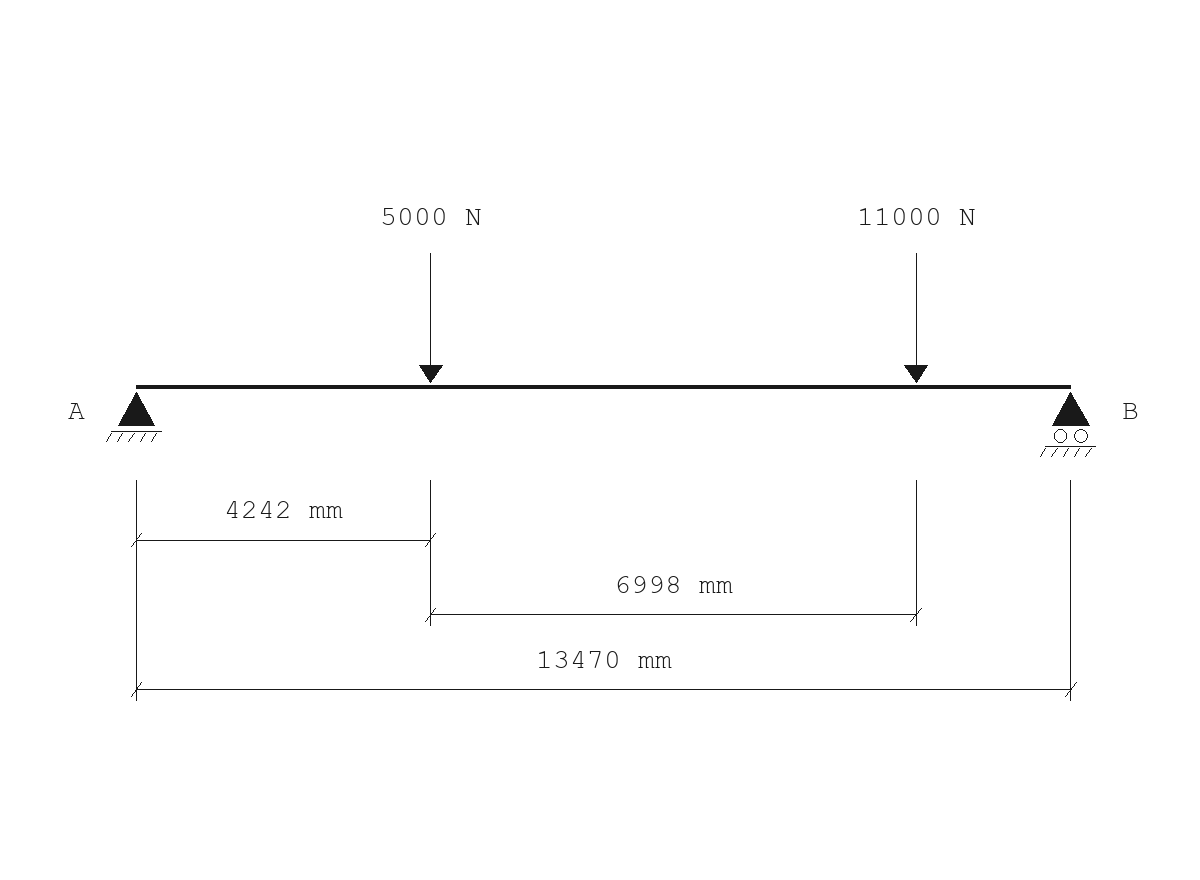pin_support: (106, 392, 162, 442)
point_load: (419, 253, 443, 383), (904, 253, 928, 383)
roller_support: (1040, 392, 1096, 457)
